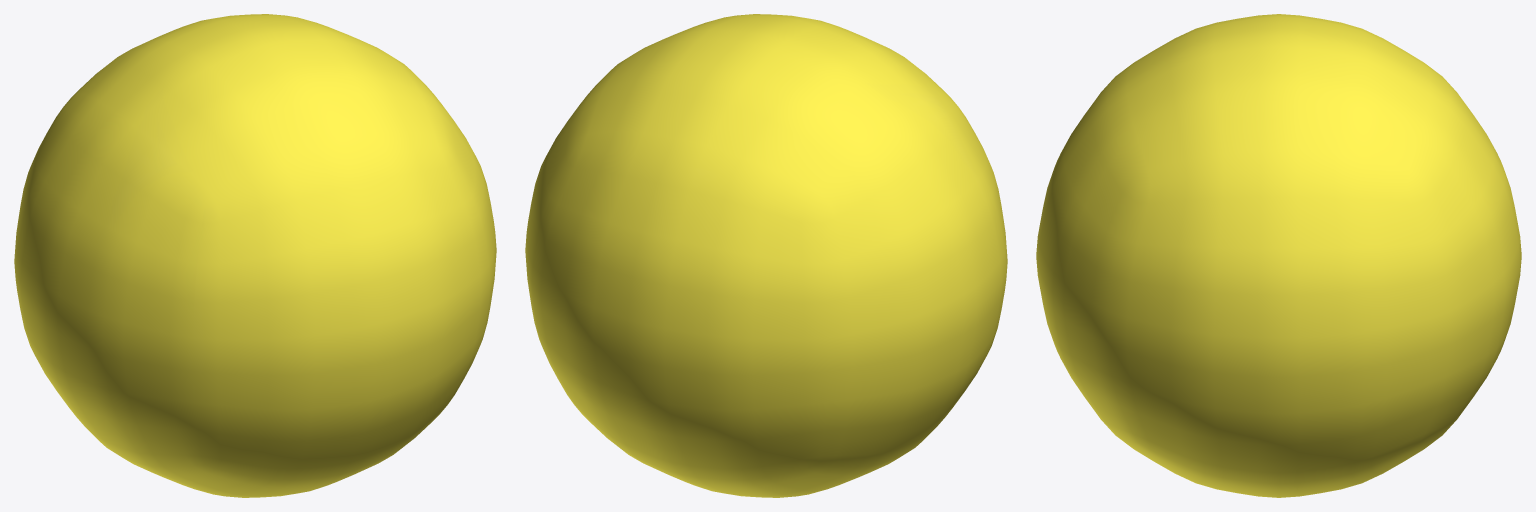
File: parry.fbx
The picture shows the model from 3 angles, left to right: view 1: azimuth 30°, elevation 25°; view 2: azimuth 150°, elevation 25°; view 3: azimuth 270°, elevation 25°; orthographic projection.
Parts seen in each view (by area): view 1: Roundcube; view 2: Roundcube; view 3: Roundcube.
Boxes of the visible parts, x1,y1,x2,y2 form: Roundcube: (14, 14, 496, 497); Roundcube: (525, 14, 1007, 497); Roundcube: (1036, 14, 1521, 497).
Bounding box in the file's own units: 72.69 × 72.69 × 72.69.
1 material, 1 textured.
